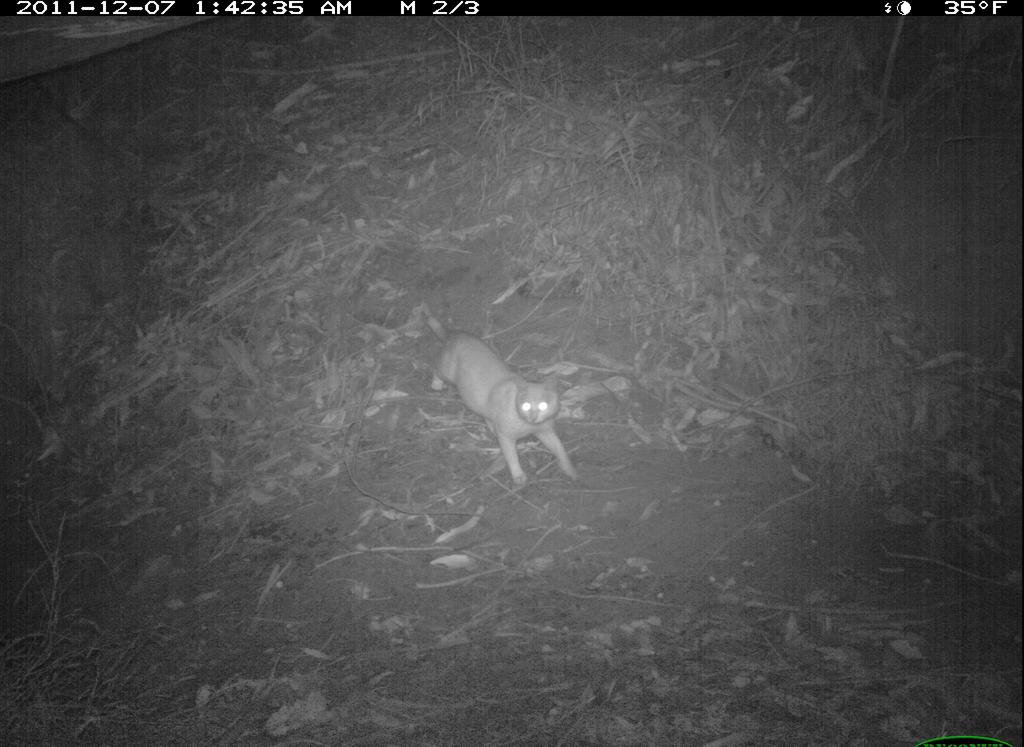cat: (414, 301, 583, 491)
